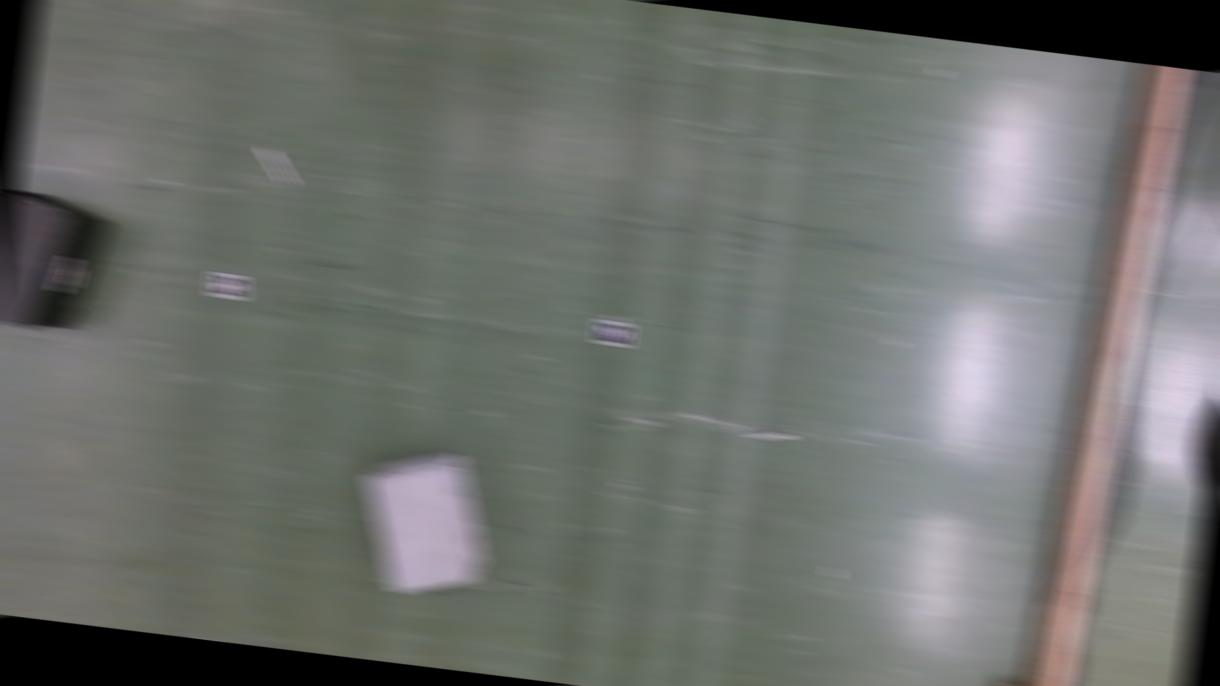probes: (260, 146, 298, 185), (752, 427, 794, 444)
rako: (352, 440, 497, 602), (0, 184, 114, 336)
